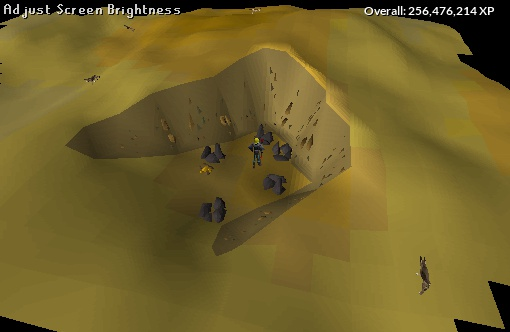depleted: (192, 192, 245, 229), (256, 168, 299, 204), (196, 139, 228, 167)
